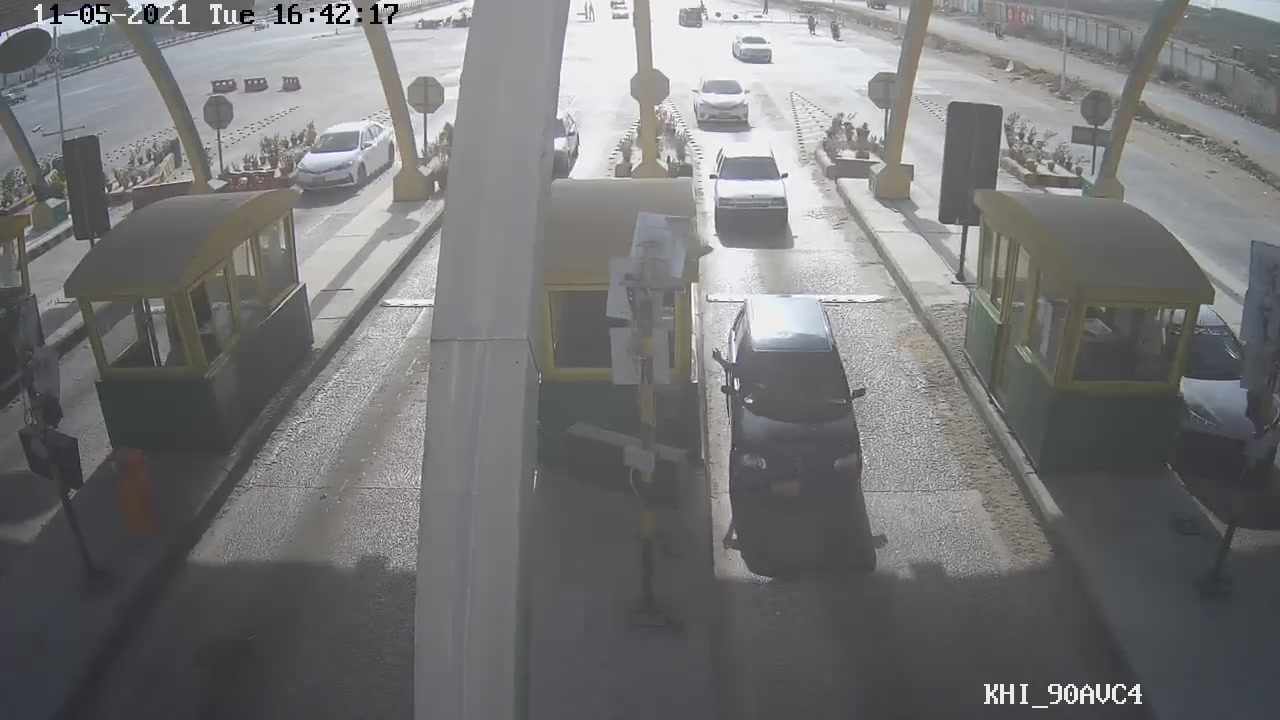F1: (709, 289, 884, 519), (704, 137, 799, 237)
